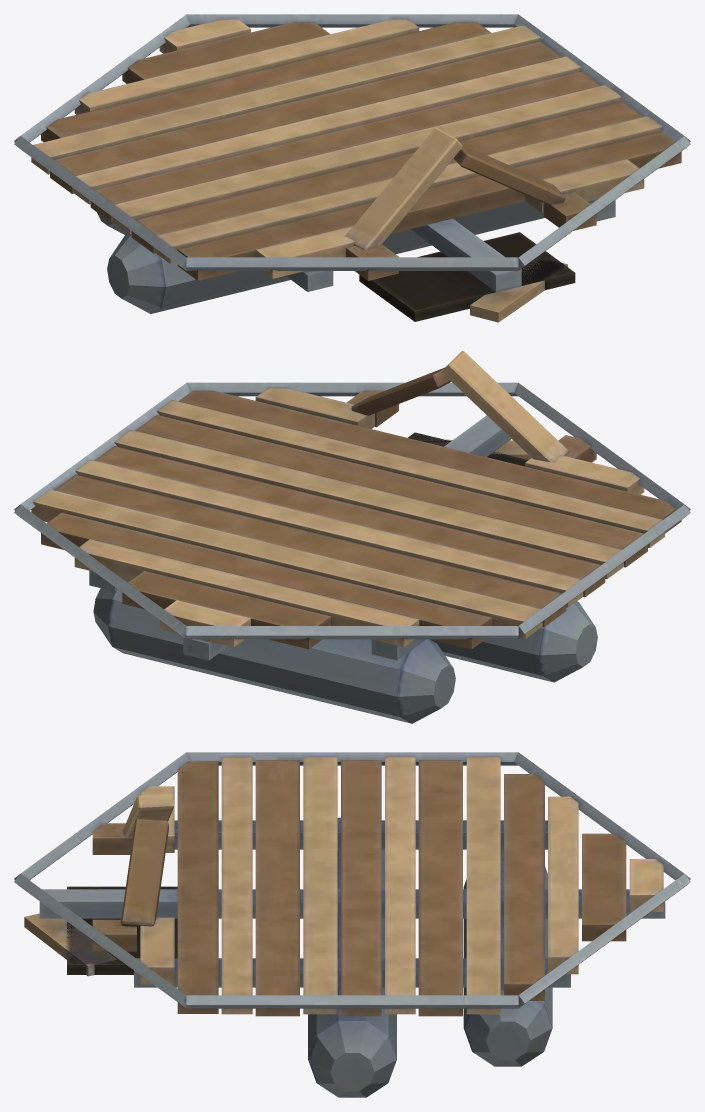
The model's file is raft-damaged-age20.glb.
The picture shows the model from 3 angles, top to bottom: view 1: azimuth 30°, elevation 25°; view 2: azimuth 150°, elevation 25°; view 3: azimuth 270°, elevation 25°; orthographic projection.
Visible parts, largest first — view 1: raft-damaged-age20; view 2: raft-damaged-age20; view 3: raft-damaged-age20.
Boxes of the visible parts, box(x1,y1,x2,y2) form: raft-damaged-age20: box(14, 14, 690, 322); raft-damaged-age20: box(14, 351, 690, 723); raft-damaged-age20: box(14, 752, 690, 1097).
Size of the model in its own units: 1.59 by 0.5899 by 1.83.
Materials: 1 (1 with a texture image).
